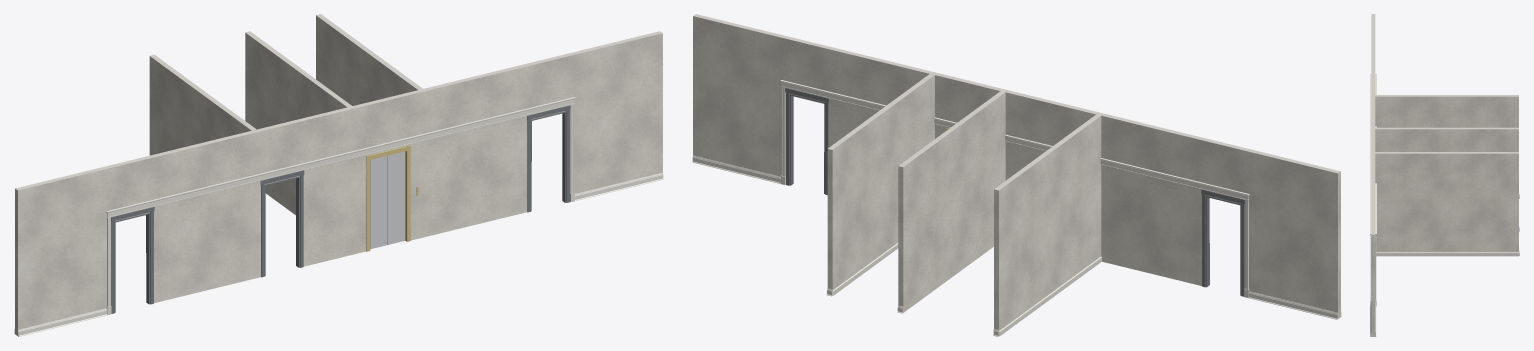
File: plan_podium.glb
3 renders of one model, left to right at view 1: azimuth 30°, elevation 25°; view 2: azimuth 150°, elevation 25°; view 3: azimuth 270°, elevation 25°, orthographic. The views are drawn at different scales.
Parts seen in each view (by area): view 1: plan_podium_plaster, molduras, plan_podium_frame, plan_podium_steel, plan_podium_gold; view 2: plan_podium_plaster, molduras, plan_podium_frame, plan_podium_trim; view 3: plan_podium_plaster, molduras, plan_podium_trim.
Boxes of the visible parts, left/top/right/bottom form: plan_podium_plaster: left=15, top=14, right=662, bottom=335; molduras: left=14, top=97, right=663, bottom=336; plan_podium_frame: left=111, top=105, right=570, bottom=313; plan_podium_steel: left=370, top=151, right=405, bottom=249; plan_podium_gold: left=366, top=145, right=418, bottom=251; plan_podium_plaster: left=693, top=14, right=1340, bottom=335; molduras: left=692, top=80, right=1341, bottom=336; plan_podium_frame: left=785, top=88, right=1244, bottom=296; plan_podium_trim: left=832, top=243, right=1101, bottom=335; plan_podium_plaster: left=1371, top=14, right=1518, bottom=336; molduras: left=1370, top=73, right=1519, bottom=336; plan_podium_trim: left=1376, top=252, right=1518, bottom=256.
Bounding box in the file's own units: 15.5 × 3.35 × 4.45.
Materials: 6 (1 with a texture image).
